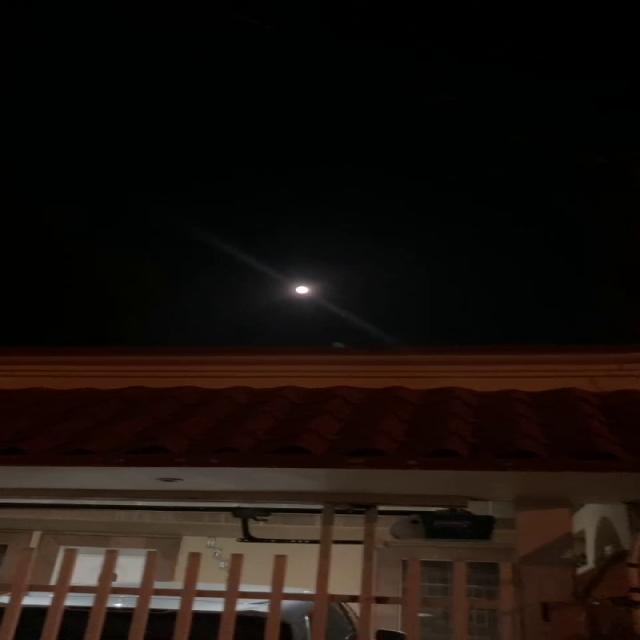moon: (287, 273, 330, 305)
